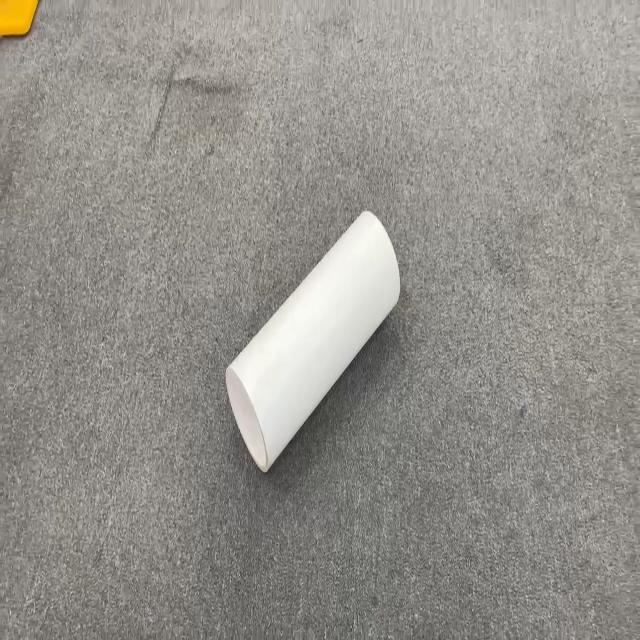coral: (224, 208, 401, 473)
